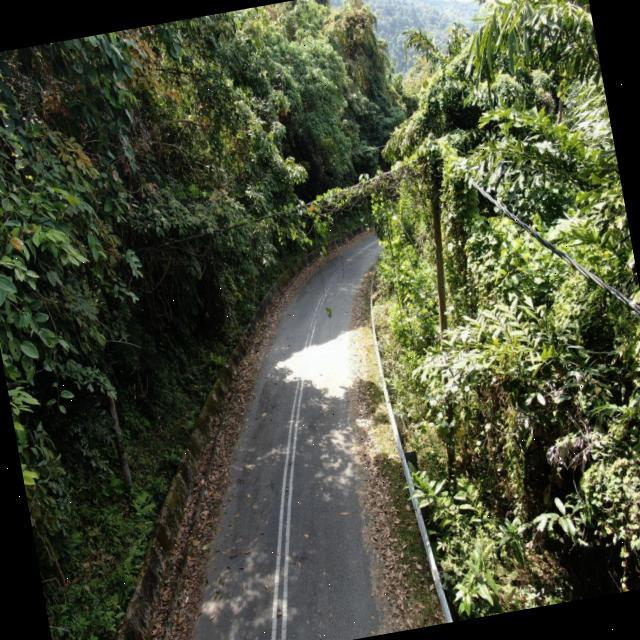critical vegetation: (260, 119, 480, 238)
